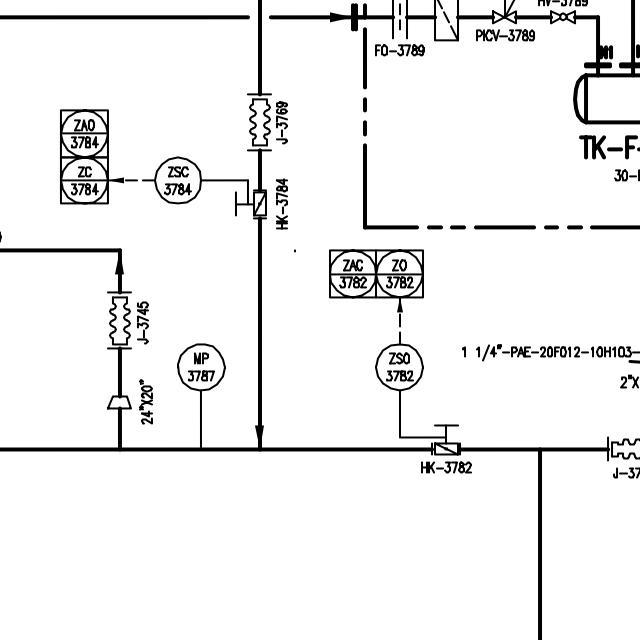BV: (428, 418, 466, 457), (232, 187, 269, 222)
BV2: (547, 8, 578, 26)
EJ: (244, 89, 274, 155), (105, 288, 134, 351)
F2: (431, 0, 462, 42)
O: (390, 0, 411, 40)
SP: (105, 393, 133, 412)
